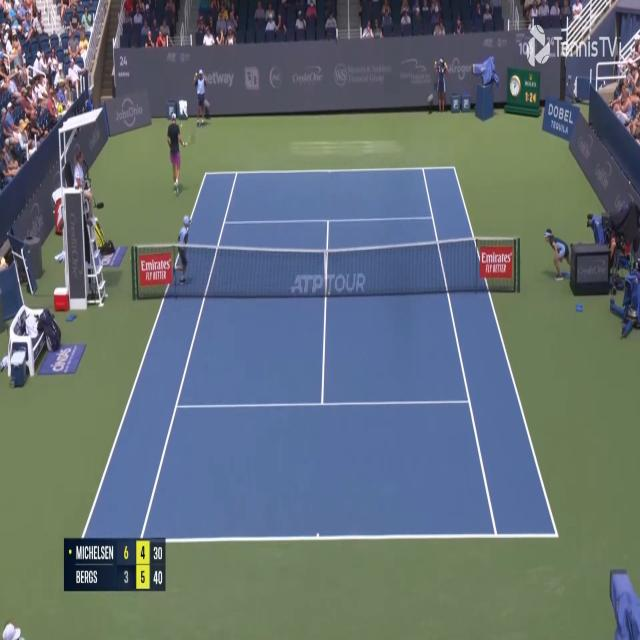tennis-player: (162, 106, 196, 196)
